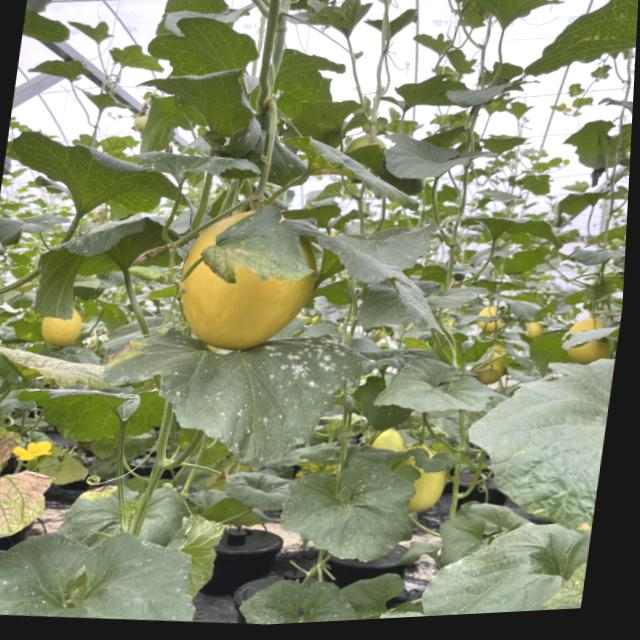CMV: (0, 404, 74, 550), (551, 541, 589, 605)
SLCV: (347, 598, 458, 620)
alternaria leaf blight: (46, 472, 197, 546), (194, 211, 325, 290), (281, 132, 408, 207), (0, 340, 115, 400)
downy mildew: (477, 336, 617, 535), (0, 119, 200, 228), (435, 516, 571, 616), (509, 0, 639, 98), (243, 572, 364, 626), (397, 71, 505, 120)
healthy: (0, 514, 212, 633), (272, 439, 426, 569), (25, 206, 173, 330), (131, 38, 270, 146), (127, 15, 270, 94), (369, 349, 503, 423), (376, 122, 485, 189), (339, 207, 448, 273), (269, 41, 347, 125), (468, 199, 567, 250), (566, 113, 632, 174), (499, 586, 582, 612), (417, 0, 518, 14)
powdery mildew: (101, 309, 372, 476)
